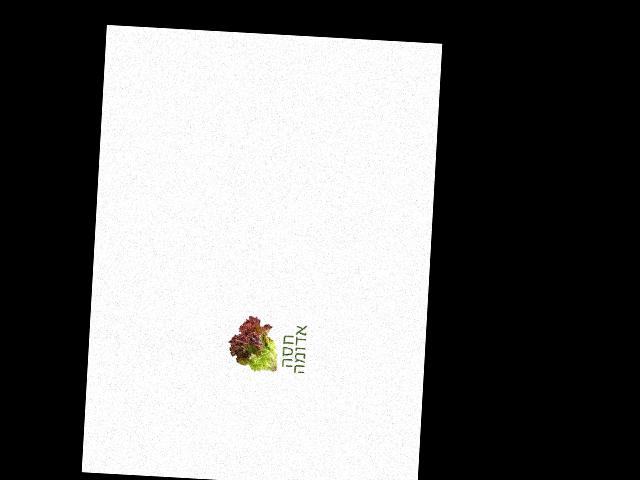lettuce: (226, 313, 281, 378)
